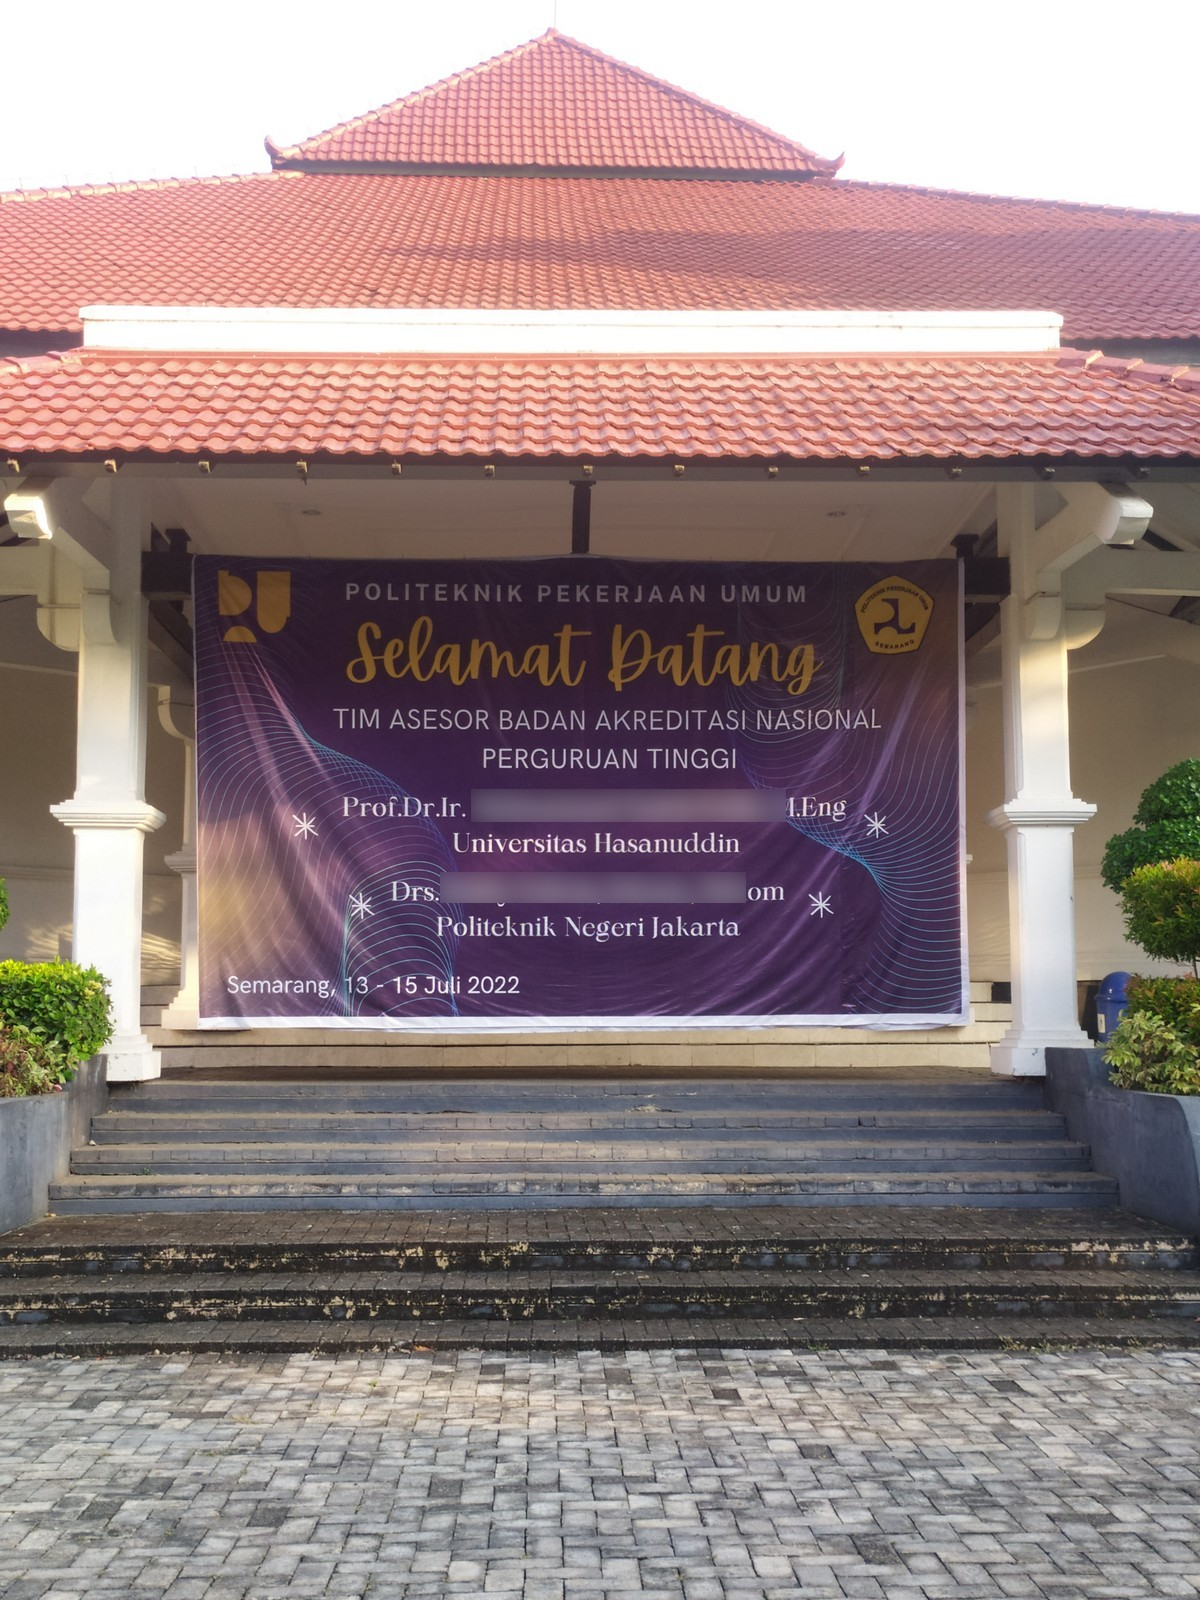concrete column: (61, 639, 160, 1044), (996, 607, 1087, 1029)
